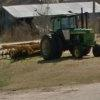Tractor: (39, 8, 100, 68)
